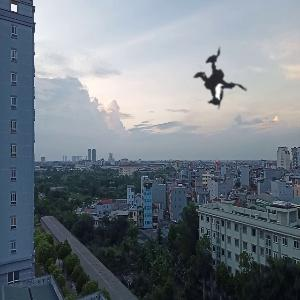drone: (156, 25, 269, 138)
